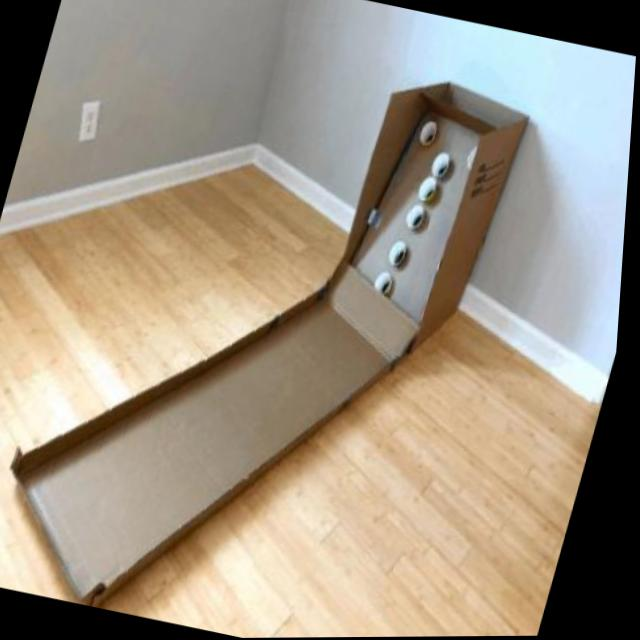box: (0, 0, 554, 640)
